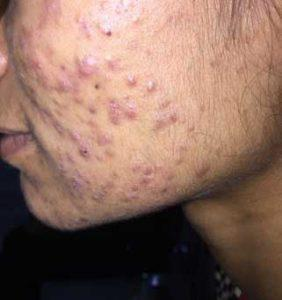acne marks: (33, 23, 131, 182)
